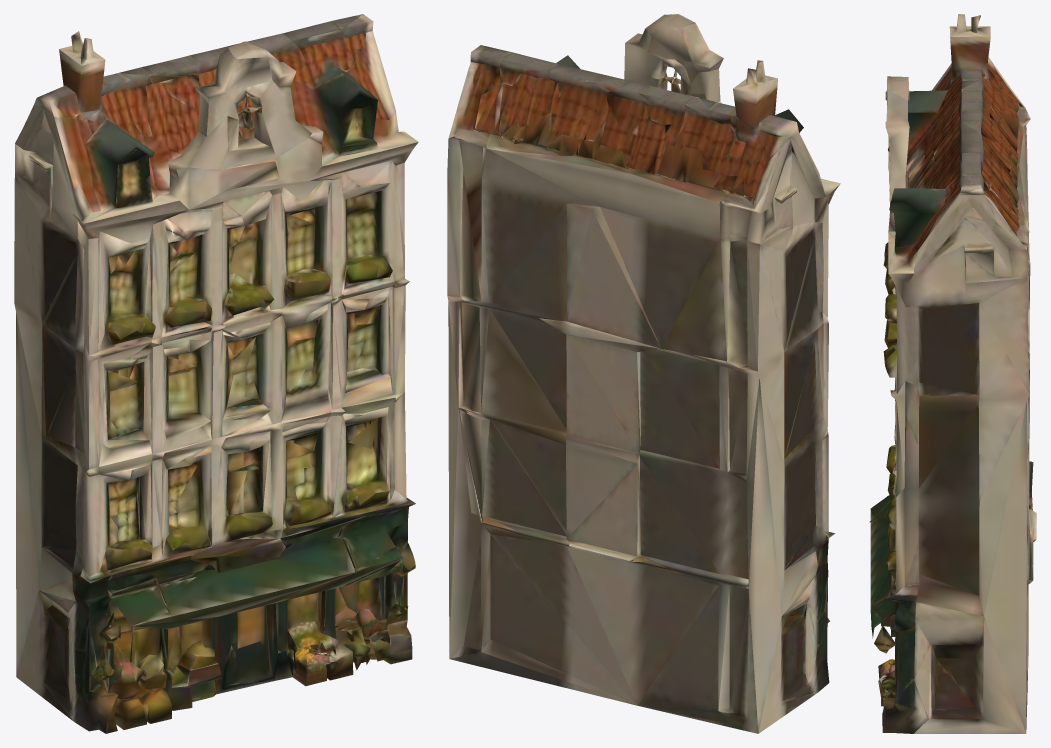
File: getkong-haus3.glb
The picture shows the model from 3 angles, left to right: view 1: azimuth 30°, elevation 25°; view 2: azimuth 150°, elevation 25°; view 3: azimuth 270°, elevation 25°; orthographic projection. The views are drawn at different scales.
Parts seen in each view (by area): view 1: output_unwrapped; view 2: output_unwrapped; view 3: output_unwrapped.
Part boxes in pixels (x1,y1,x2,y2): output_unwrapped: (14, 14, 418, 733); output_unwrapped: (447, 14, 840, 733); output_unwrapped: (869, 14, 1036, 733).
Size of the model in its own units: 1.01 by 1.9 by 0.486.
1 material, 1 textured.
